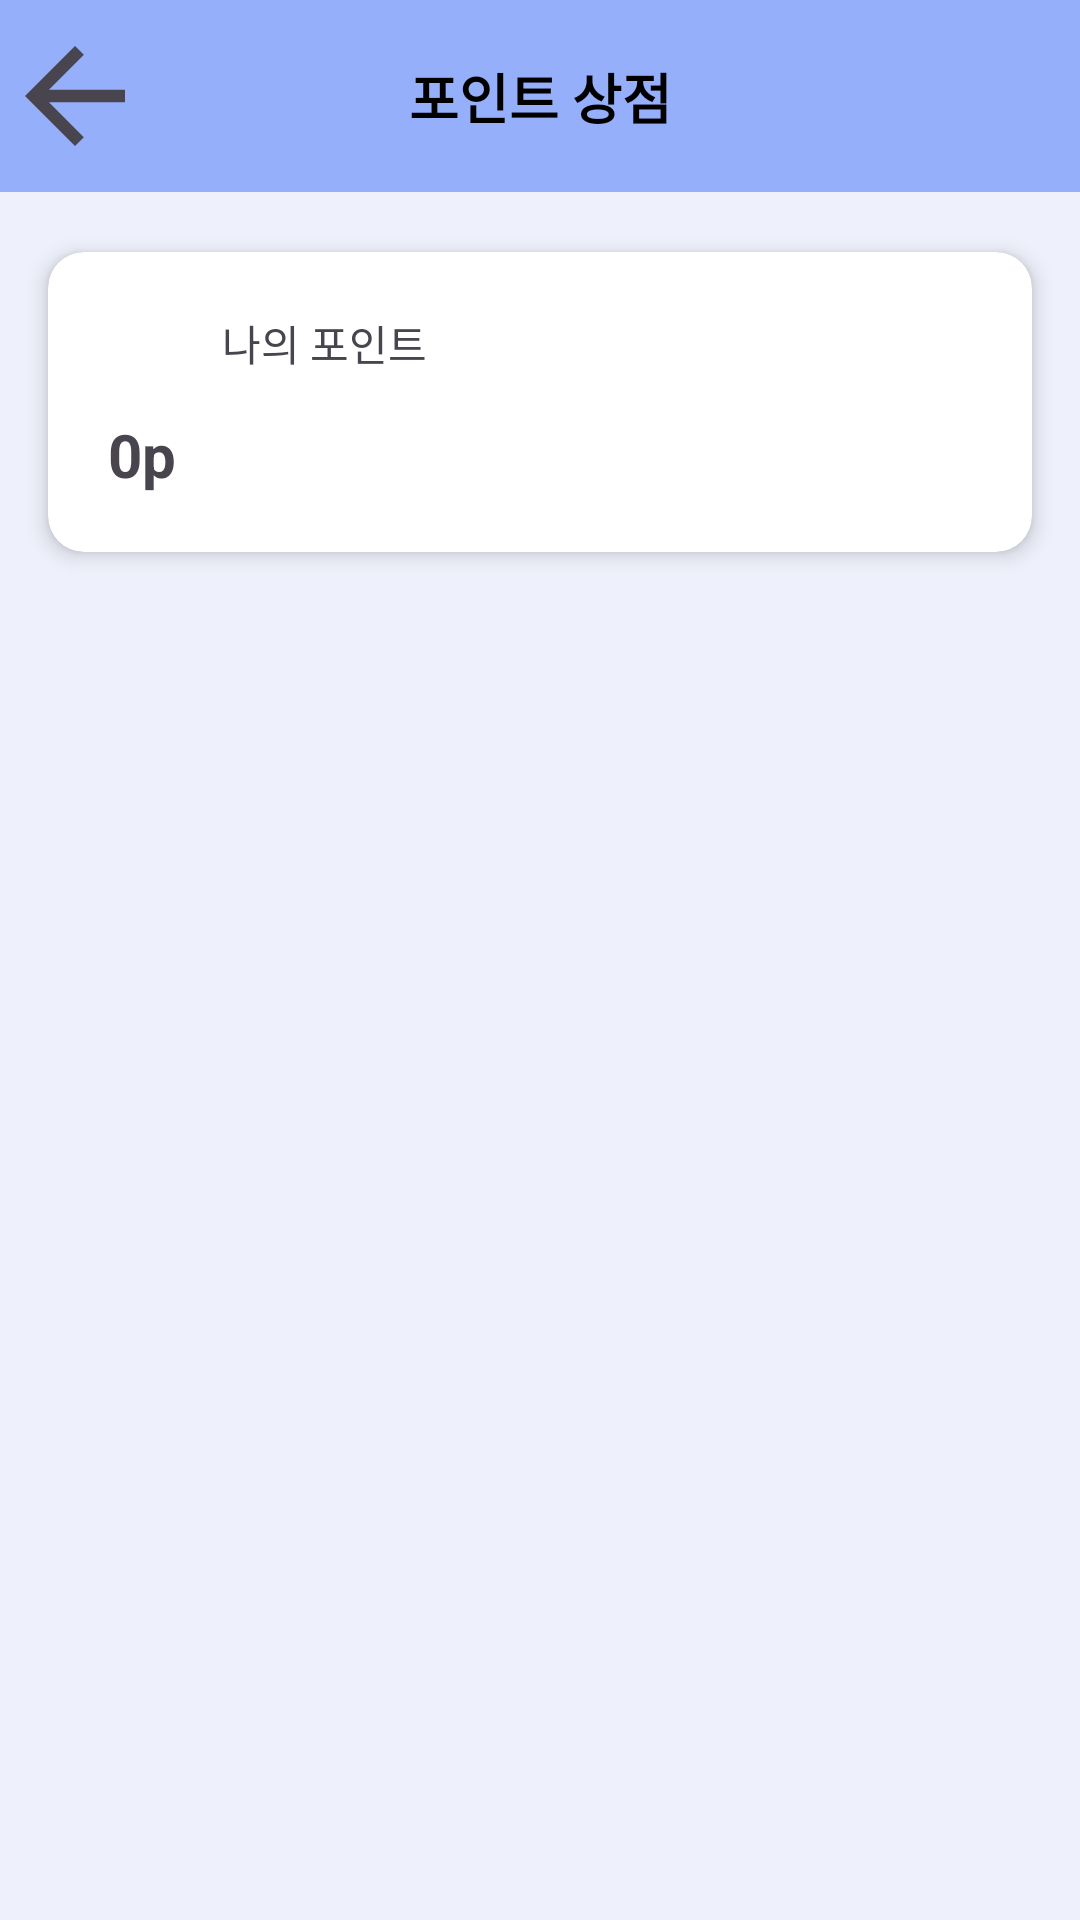

Named icons in this screenshot (1080px×1920px) and their centers, [x,y]:
뒤로 가기: [75,96]
